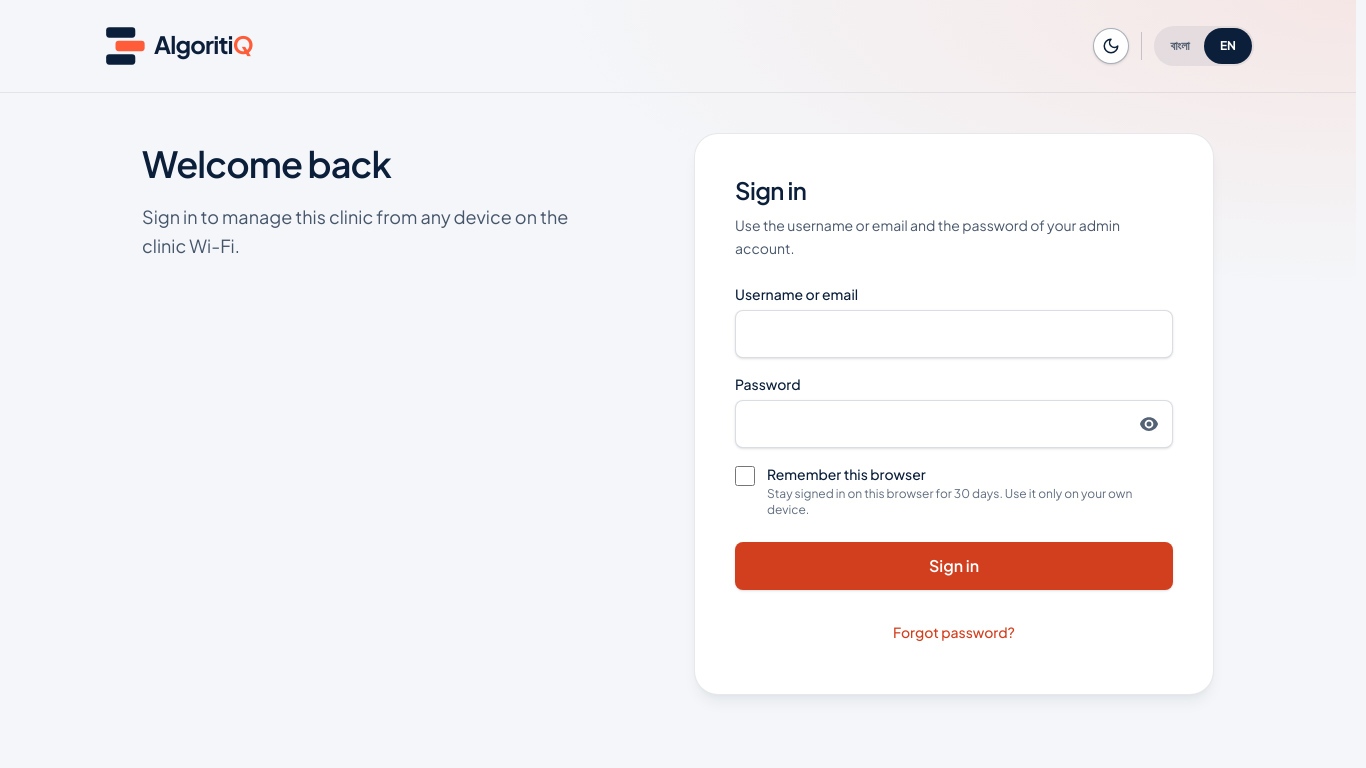
Test: sign-in › should explain a missing connection
Type "Owner" into the field labelled "Username or email" at (954, 334), box [735, 310, 1173, 358]
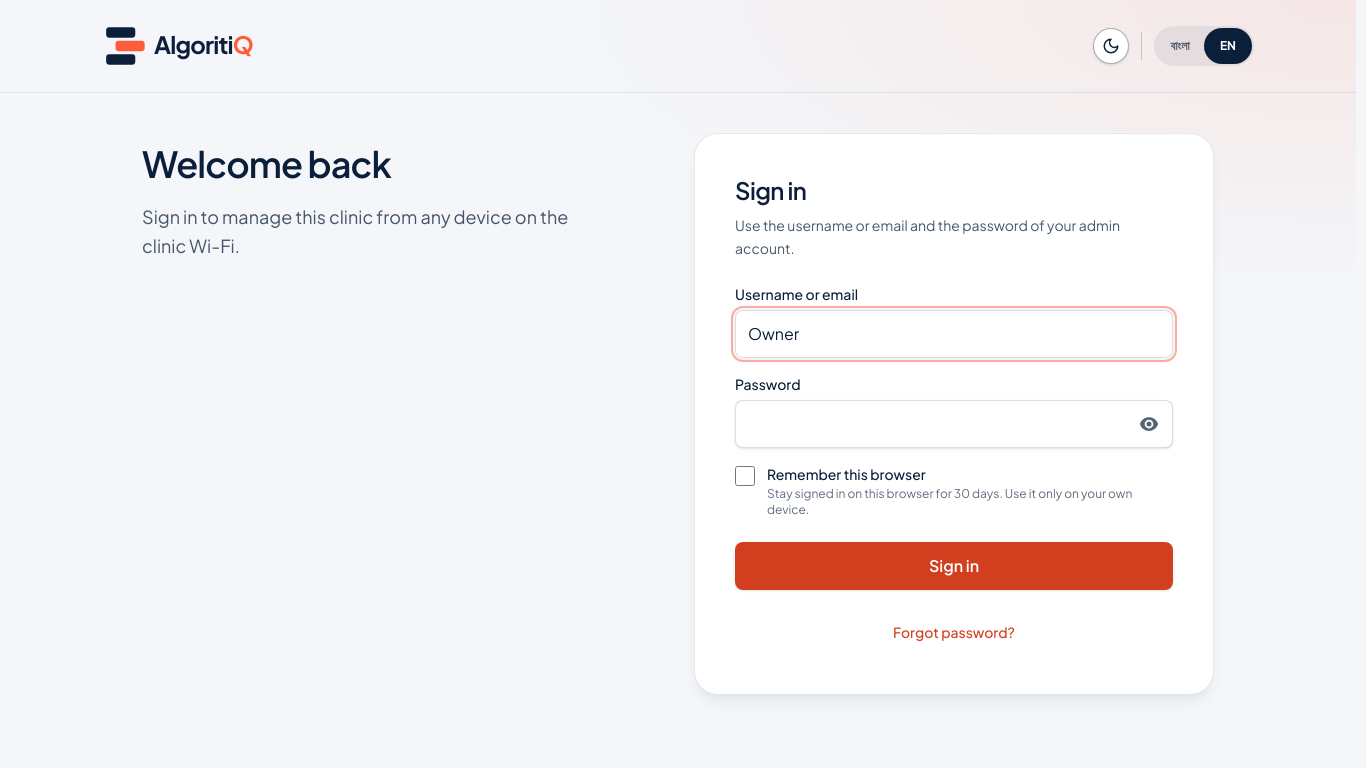
Type "a-long-passphrase" into the password field labelled "Password" at (954, 424), box [735, 400, 1173, 448]
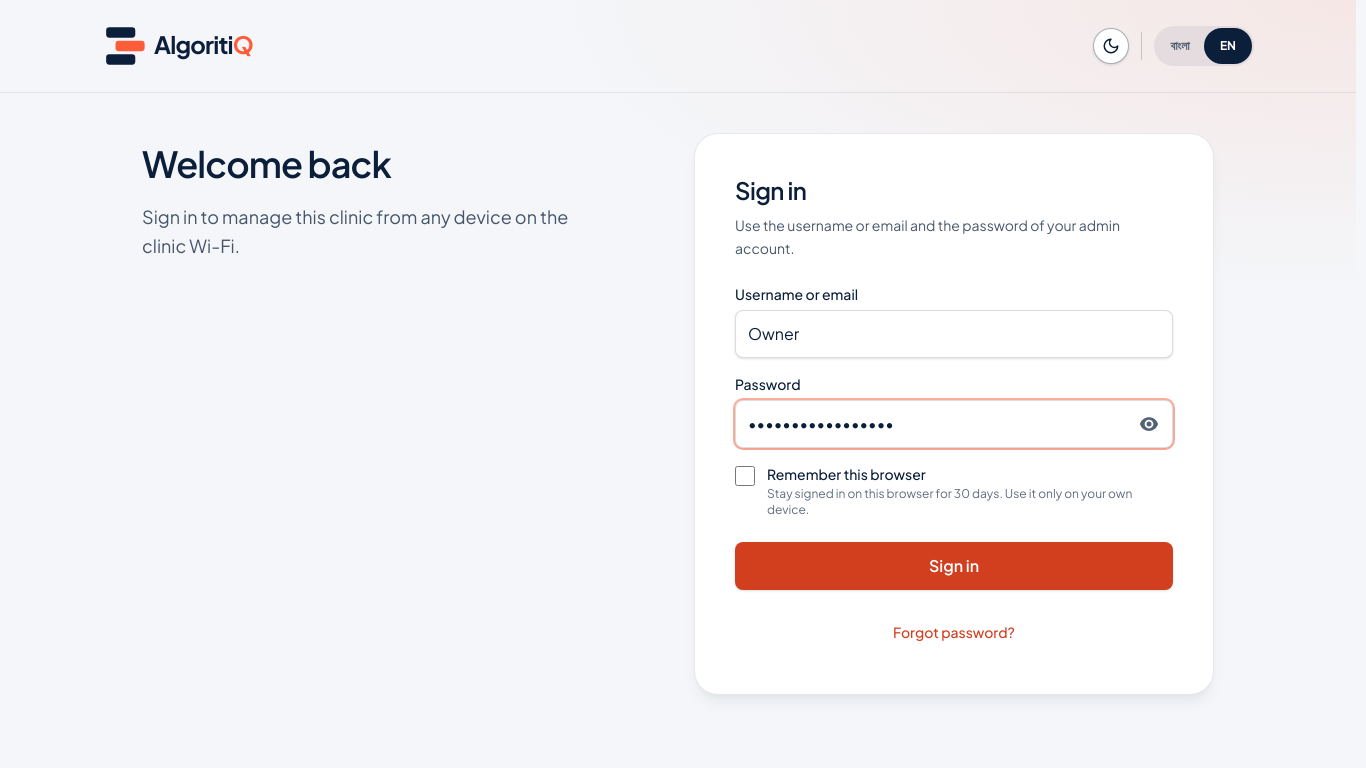
Click the button "Sign in" at (954, 566), box [735, 542, 1173, 590]
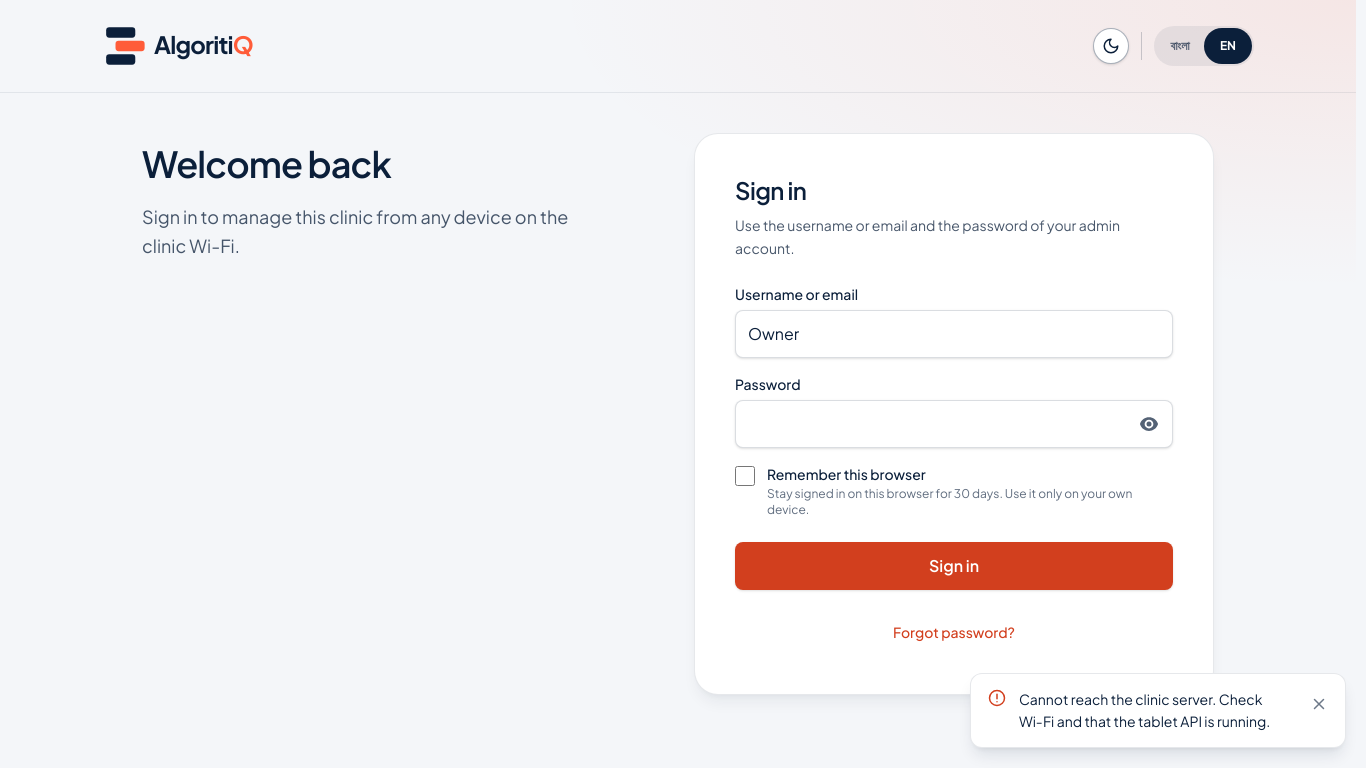
expect the message shows "Cannot reach the clinic server": met, box [1019, 690, 1270, 730]
